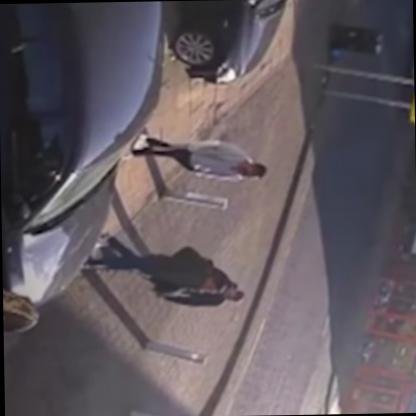Human Body: (79, 223, 230, 308), (120, 130, 268, 184), (148, 268, 245, 310)
